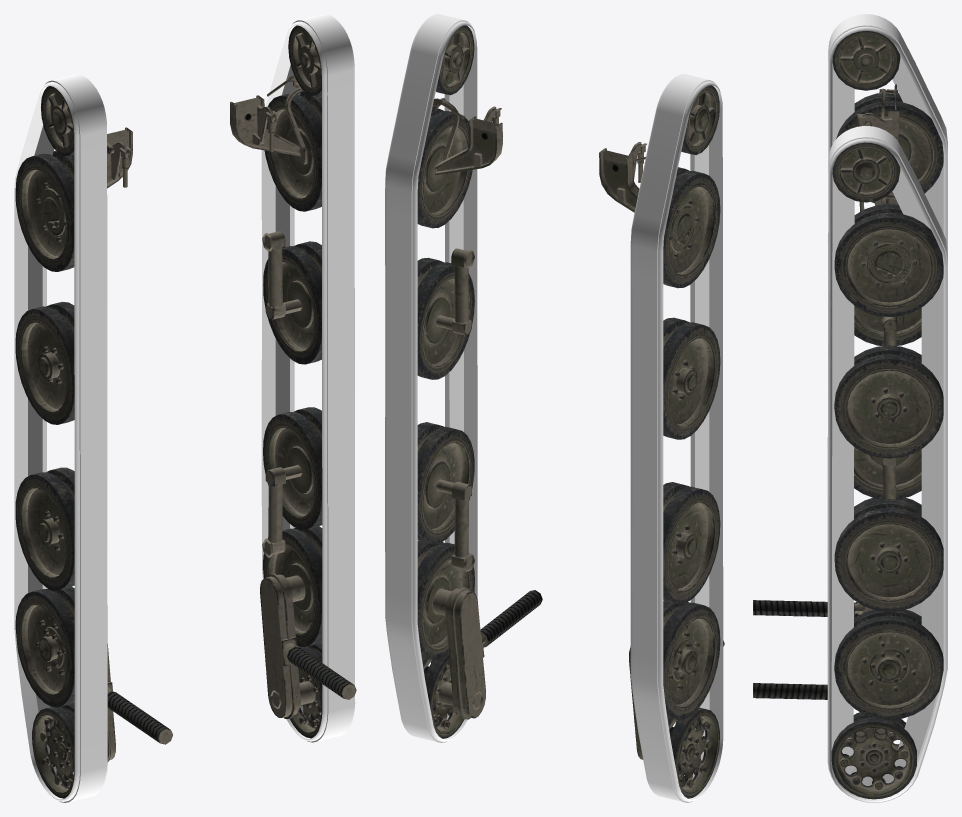
File: Chassis.glb
3 views of the same model, side by side, from view 1: azimuth 30°, elevation 25°; view 2: azimuth 150°, elevation 25°; view 3: azimuth 270°, elevation 25° (orthographic). The views are drawn at different scales.
Parts seen in each view (by area): view 1: set_3_group_0, set_1_group_0, set_2_group_0, set_0_group_0; view 2: set_1_group_0, set_3_group_0, set_0_group_0, set_2_group_0; view 3: set_3_group_0, set_0_group_0, set_2_group_0, set_1_group_0.
Boxes of the visible parts, x1,y1,x2,y2 form: set_3_group_0: (230, 25, 356, 738); set_1_group_0: (14, 74, 107, 802); set_2_group_0: (15, 86, 172, 798); set_0_group_0: (261, 14, 355, 742); set_1_group_0: (630, 74, 723, 802); set_3_group_0: (417, 25, 542, 738); set_0_group_0: (385, 14, 477, 742); set_2_group_0: (599, 85, 724, 798); set_3_group_0: (753, 142, 943, 799); set_0_group_0: (827, 126, 947, 802); set_2_group_0: (753, 31, 943, 618); set_1_group_0: (827, 14, 947, 616).
Size of the model in its own units: 2.24 by 5.45 by 1.44.
4 materials, 2 textured.
